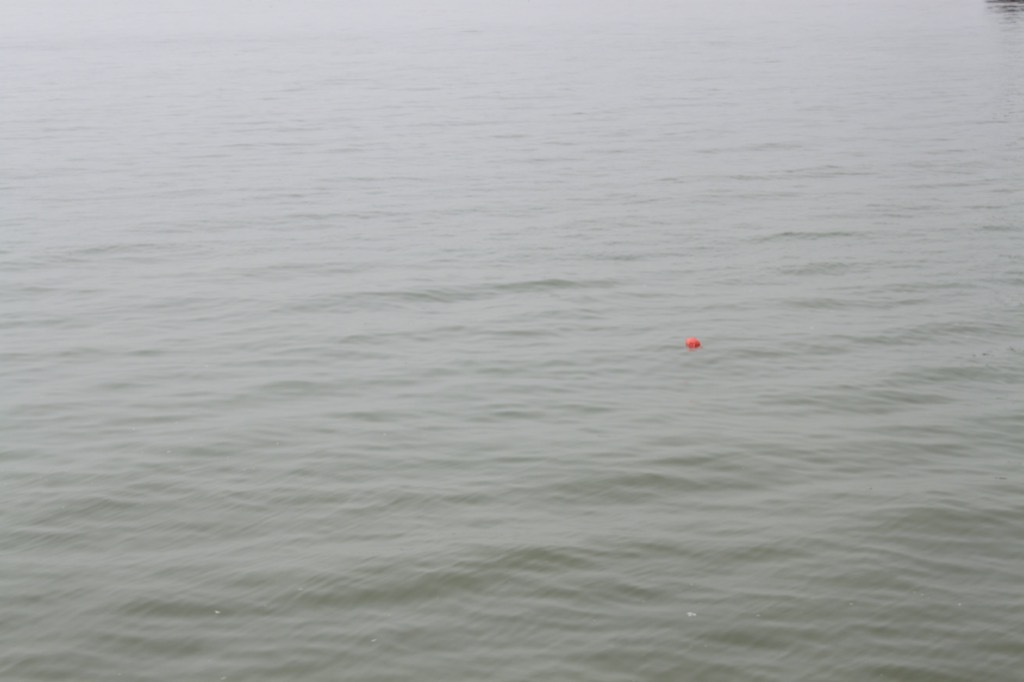plastic: (677, 330, 708, 363)
structure: (981, 1, 1024, 52)
